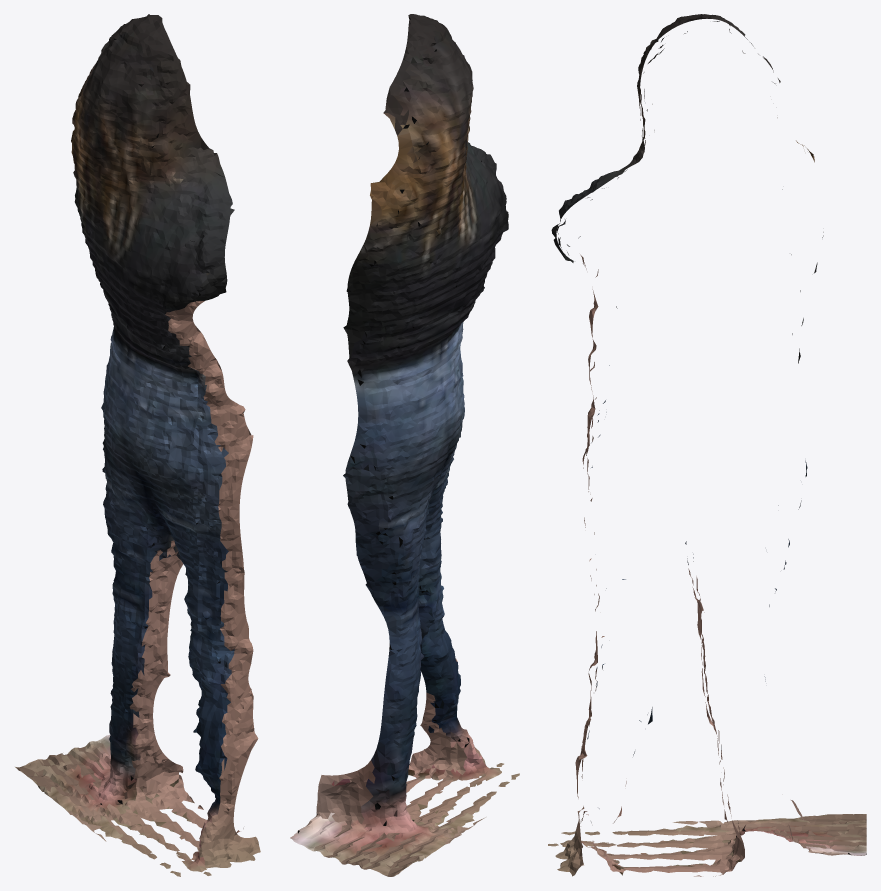
3 renders of one model, left to right at view 1: azimuth 30°, elevation 25°; view 2: azimuth 150°, elevation 25°; view 3: azimuth 270°, elevation 25°, orthographic. The views are drawn at different scales.
Bounding box in the file's own units: 0.2147 × 1.55 × 0.5328.
1 material, 1 textured.
